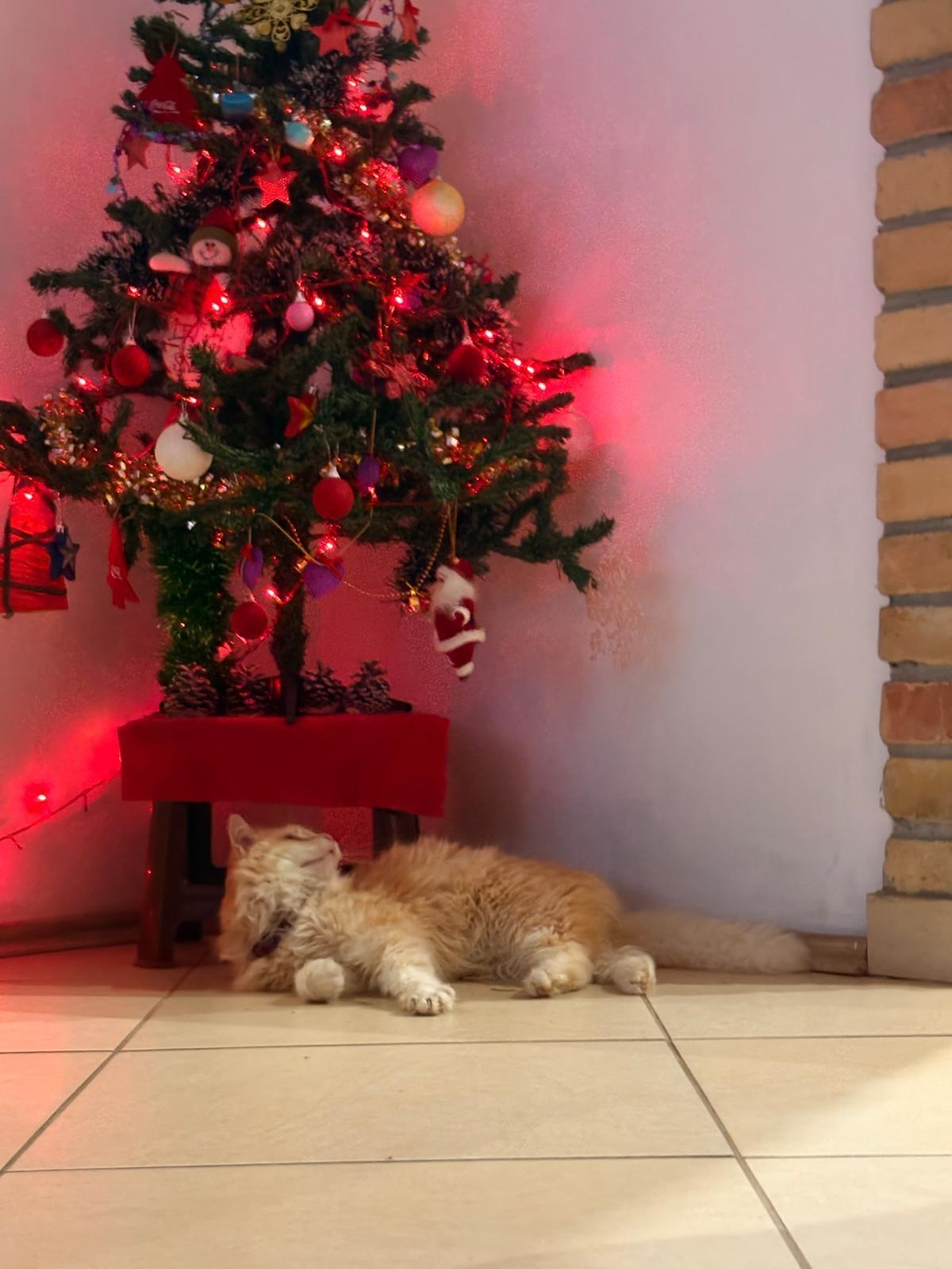macka: (226, 814, 812, 1017)
